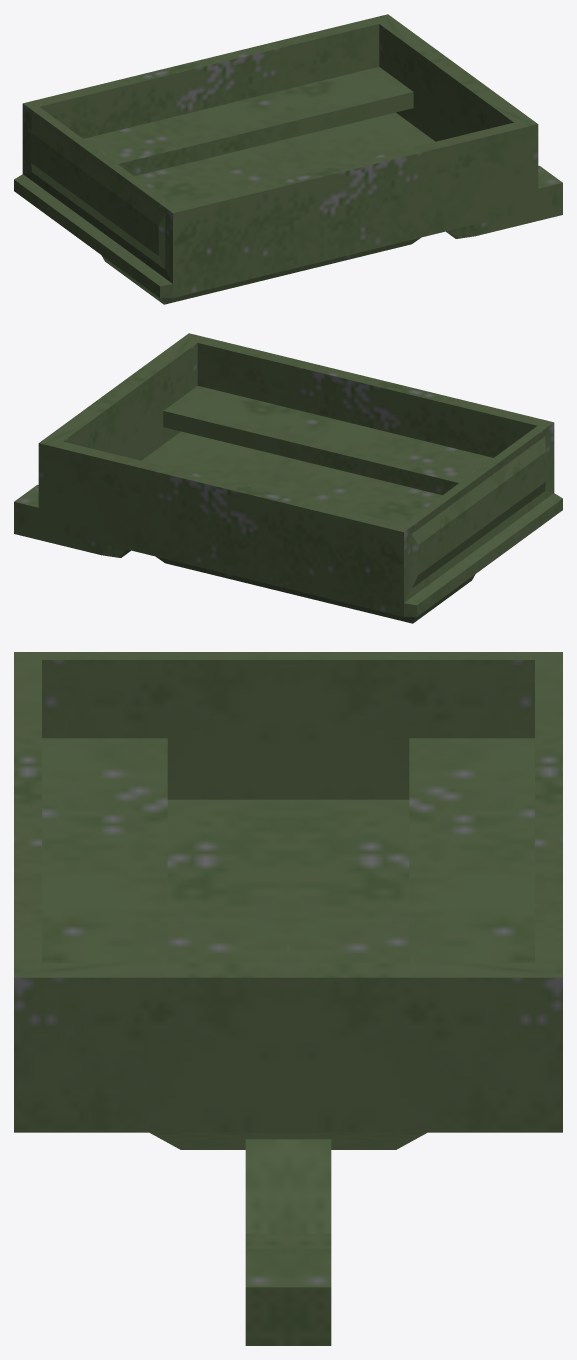
Rendered from TruckBack.fbx.
3 renders of one model, top to bottom at view 1: azimuth 30°, elevation 25°; view 2: azimuth 150°, elevation 25°; view 3: azimuth 270°, elevation 25°, orthographic. The views are drawn at different scales.
Visible parts, largest first — view 1: Cube.002; view 2: Cube.002; view 3: Cube.002.
Part boxes in pixels (left/top/right/bottom): Cube.002: left=14, top=14, right=562, bottom=304; Cube.002: left=14, top=333, right=562, bottom=623; Cube.002: left=14, top=652, right=562, bottom=1345.
Bounding box in the file's own units: 228 × 74.52 × 128.
